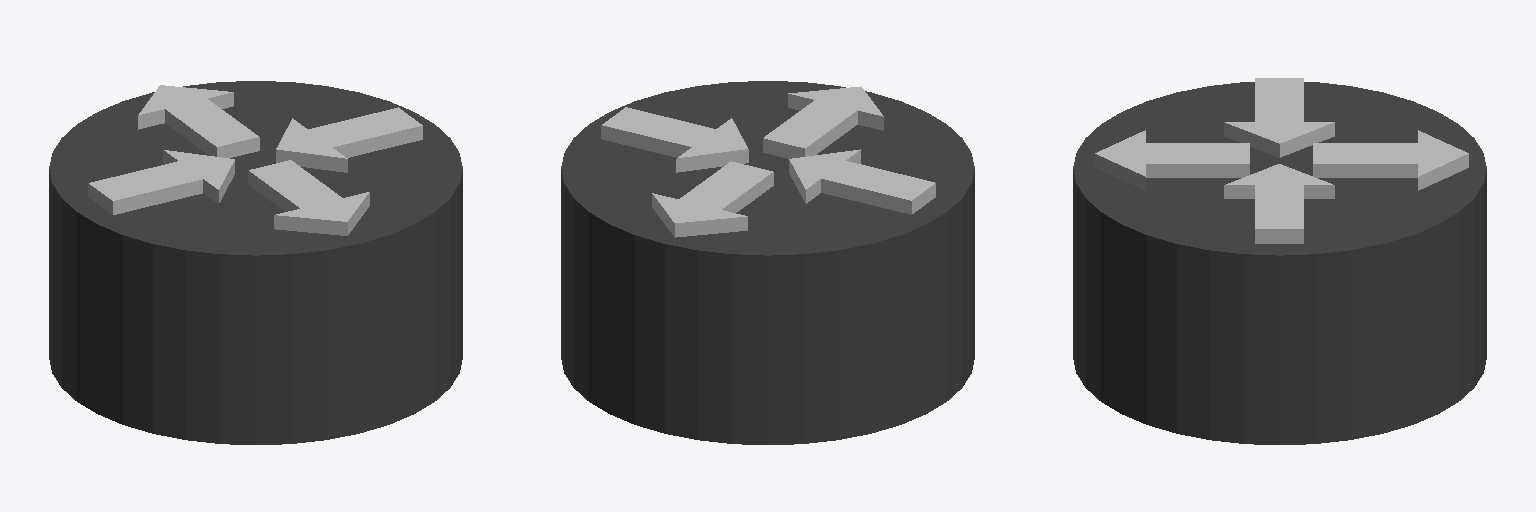
The model's file is heneiluyouqi.obj.
3 views of the same model, side by side, from view 1: azimuth 30°, elevation 25°; view 2: azimuth 150°, elevation 25°; view 3: azimuth 270°, elevation 25° (orthographic).
Parts seen in each view (by area): view 1: heneiluyouqi; view 2: heneiluyouqi; view 3: heneiluyouqi.
Part boxes in pixels (bbox=[...]): heneiluyouqi: bbox=[49, 81, 462, 444]; heneiluyouqi: bbox=[561, 81, 974, 444]; heneiluyouqi: bbox=[1073, 78, 1486, 444].
Size of the model in its own units: 49.8 by 27.1 by 49.8.